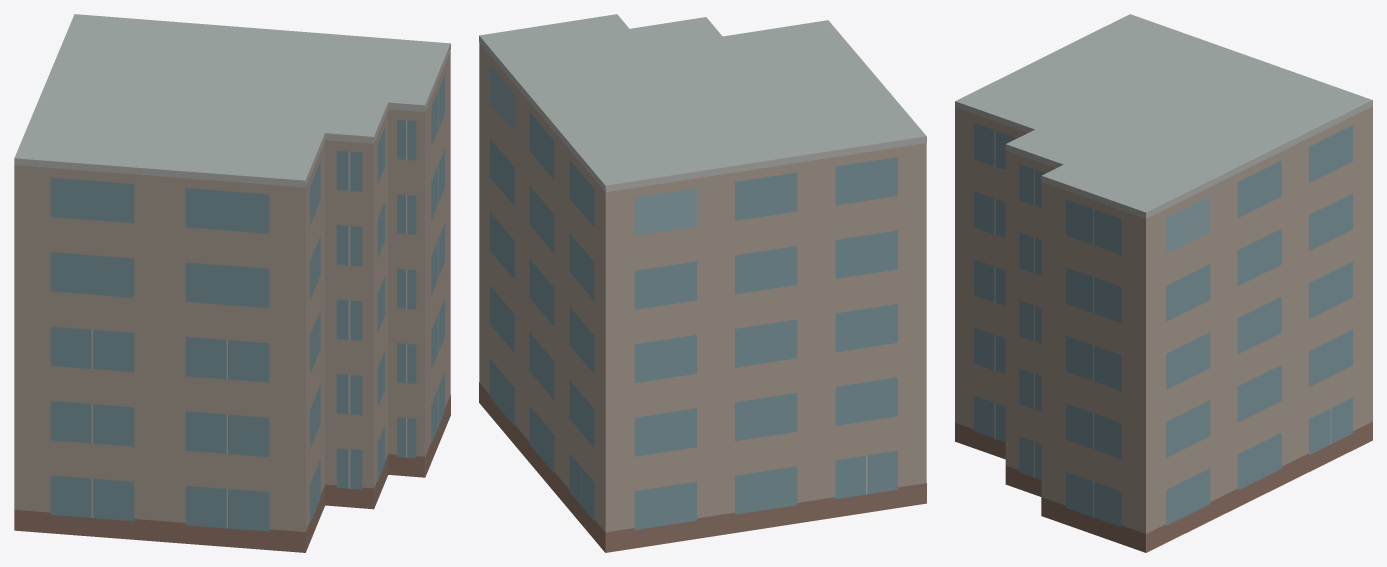
The model's file is survey-upis-32894000.glb.
The picture shows the model from 3 angles, left to right: view 1: azimuth 30°, elevation 25°; view 2: azimuth 150°, elevation 25°; view 3: azimuth 270°, elevation 25°; orthographic projection. The views are drawn at different scales.
Visible parts, largest first — view 1: survey-upis-32894000.tmp; view 2: survey-upis-32894000.tmp; view 3: survey-upis-32894000.tmp.
Boxes of the visible parts, x1,y1,x2,y2 form: survey-upis-32894000.tmp: [14, 14, 450, 552]; survey-upis-32894000.tmp: [479, 14, 926, 552]; survey-upis-32894000.tmp: [955, 14, 1372, 552].
Size of the model in its own units: 16.71 by 13.35 by 14.86.
